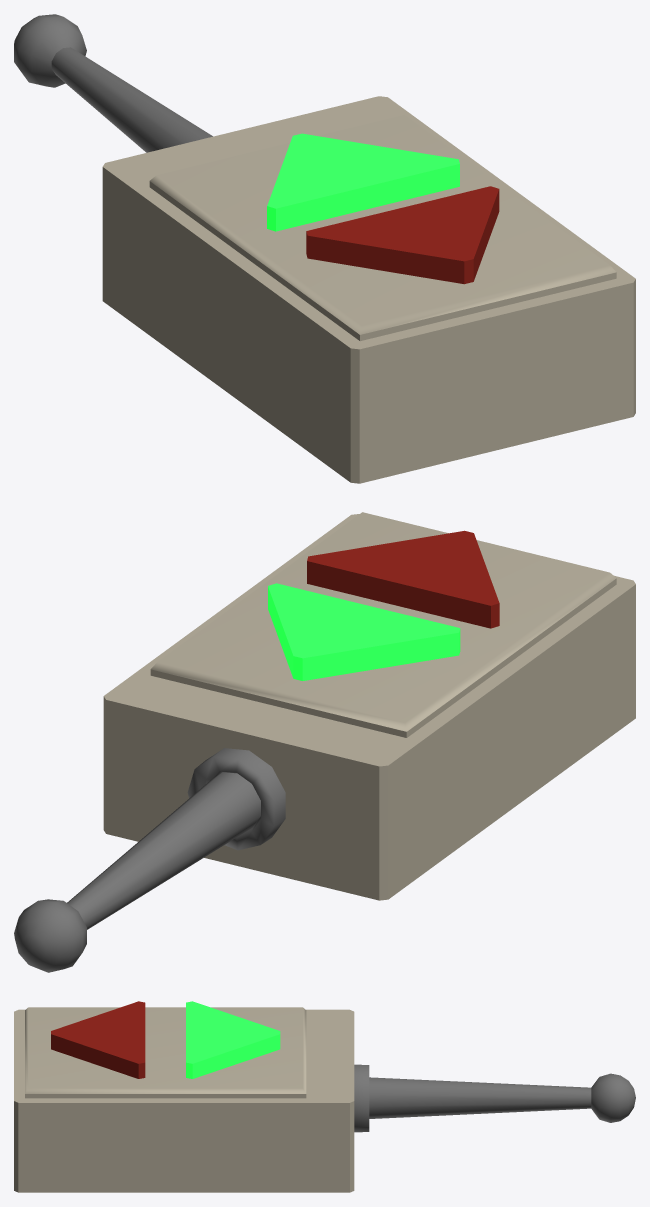
Rendered from door_remote.fbx.
3 views of the same model, one above another, from view 1: azimuth 30°, elevation 25°; view 2: azimuth 150°, elevation 25°; view 3: azimuth 270°, elevation 25° (orthographic). The views are drawn at different scales.
Visible parts, largest first — view 1: remote_body, down_button, up_button; view 2: remote_body, down_button, up_button; view 3: remote_body, down_button, up_button.
Part boxes in pixels (box(x1,y1,x2,y2)): remote_body: box(14, 14, 635, 483); down_button: box(306, 186, 499, 284); up_button: box(267, 133, 459, 231); remote_body: box(14, 512, 635, 972); down_button: box(307, 530, 499, 628); up_button: box(268, 583, 460, 680); remote_body: box(14, 1007, 635, 1192); down_button: box(51, 1001, 145, 1078); up_button: box(186, 1001, 280, 1078).
Bounding box in the file's own units: 1 × 0.569 × 2.82.
